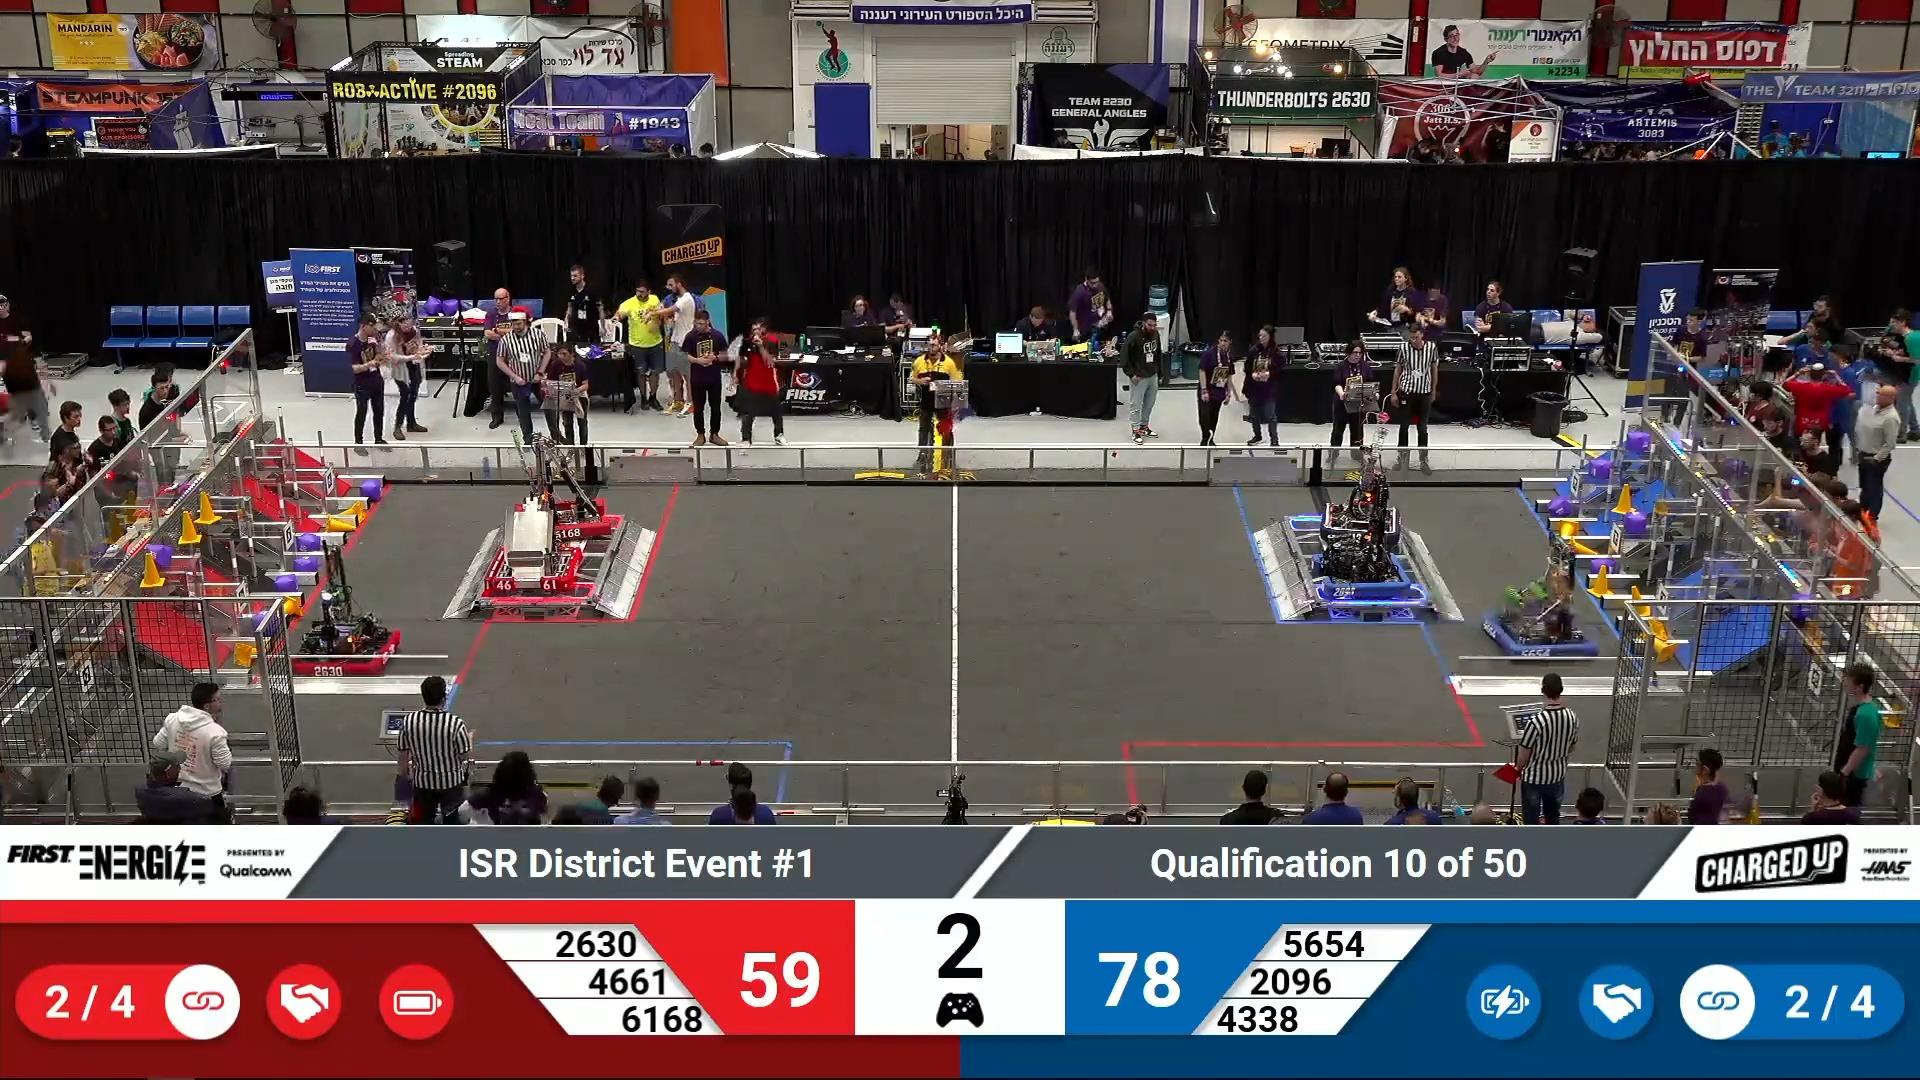robot: (1476, 533, 1597, 663), (518, 440, 615, 546), (289, 588, 400, 678), (1315, 467, 1406, 551), (485, 521, 579, 599), (1305, 538, 1419, 601)
